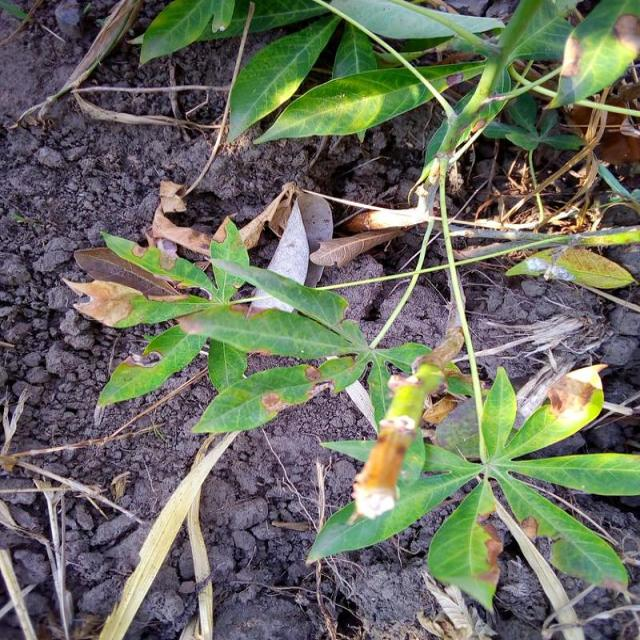cassava leaf: (306, 360, 638, 614), (252, 61, 466, 145)
